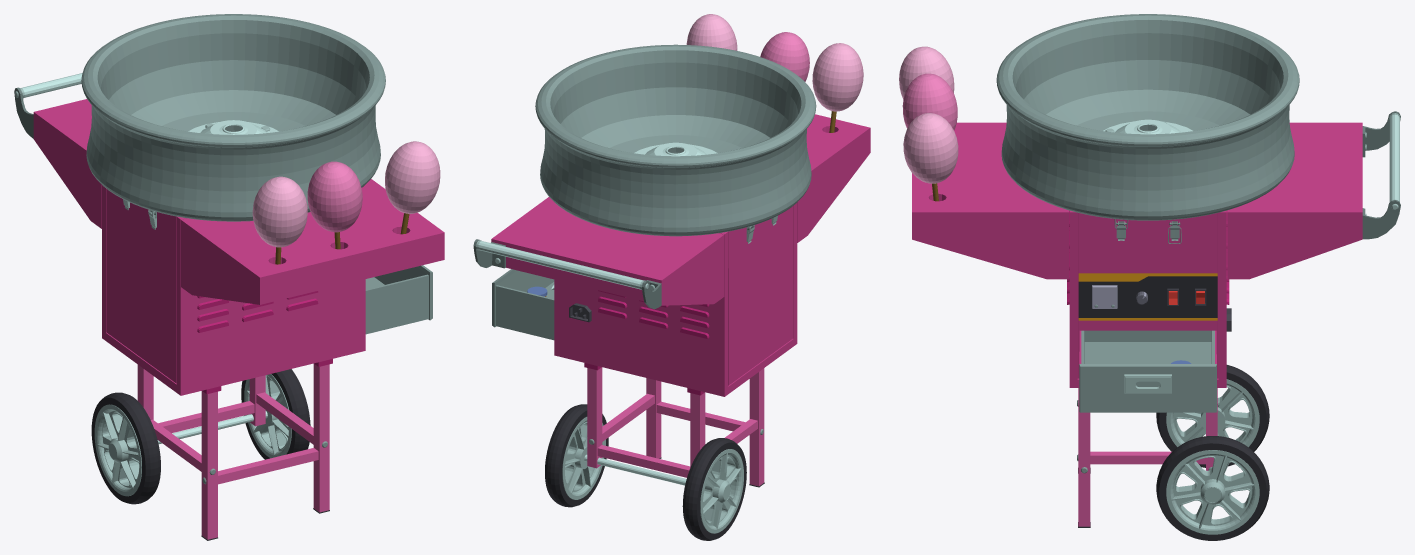
File: vata.fbx
3 renders of one model, left to right at view 1: azimuth 30°, elevation 25°; view 2: azimuth 150°, elevation 25°; view 3: azimuth 270°, elevation 25°, orthographic. The views are drawn at different scales.
Parts seen in each view (by area): view 1: Cylinder.014, Cube, Cube.002, Cylinder.029, Cube.001, Cube.010, Cylinder.028, Sphere, Sphere.001, Sphere.002, Cube.007, Cube.004 (+8 smaller); view 2: Cylinder.014, Cube, Cube.001, Cylinder.029, Cube.002, Cylinder.028, Cube.010, Sphere.002, Cube.004, Cylinder.004, Cube.007, Sphere.001 (+9 smaller); view 3: Cylinder.014, Cube, Cube.002, Cube.001, Cube.010, Cylinder.028, Cylinder.029, Sphere, Sphere.001, Plane, Sphere.002, Cube.003 (+5 smaller).
Boxes of the visible parts, bbox=[...] form: Cylinder.014: bbox=[81, 14, 385, 221]; Cube: bbox=[102, 185, 365, 395]; Cube.002: bbox=[181, 179, 444, 304]; Cylinder.029: bbox=[91, 392, 160, 504]; Cube.001: bbox=[33, 99, 101, 228]; Cube.010: bbox=[365, 265, 432, 334]; Cylinder.028: bbox=[241, 369, 310, 459]; Sphere: bbox=[385, 141, 440, 213]; Sphere.001: bbox=[307, 161, 362, 232]; Sphere.002: bbox=[252, 176, 307, 247]; Cube.007: bbox=[201, 391, 217, 539]; Cube.004: bbox=[158, 401, 318, 484]; Cylinder.014: bbox=[535, 44, 816, 236]; Cube: bbox=[554, 203, 797, 396]; Cube.001: bbox=[491, 197, 724, 305]; Cylinder.029: bbox=[682, 438, 746, 540]; Cube.002: bbox=[797, 114, 870, 242]; Cylinder.028: bbox=[545, 404, 608, 507]; Cube.010: bbox=[492, 269, 554, 340]; Sphere.002: bbox=[812, 43, 863, 111]; Cube.004: bbox=[597, 401, 745, 477]; Cylinder.004: bbox=[478, 241, 642, 289]; Cube.007: bbox=[749, 368, 764, 486]; Sphere.001: bbox=[760, 32, 809, 81]; Cylinder.014: bbox=[996, 14, 1299, 220]; Cube: bbox=[1069, 210, 1226, 387]; Cube.002: bbox=[912, 122, 1068, 279]; Cube.001: bbox=[1227, 122, 1362, 279]; Cube.010: bbox=[1079, 330, 1216, 412]; Cylinder.028: bbox=[1156, 436, 1269, 540]; Cylinder.029: bbox=[1156, 365, 1269, 467]; Sphere: bbox=[903, 113, 958, 183]; Sphere.001: bbox=[902, 73, 957, 130]; Plane: bbox=[1362, 111, 1400, 239]; Sphere.002: bbox=[899, 46, 954, 99]; Cube.003: bbox=[1078, 388, 1090, 526].
Bounding box in the file's own units: 218 × 298 × 316.
